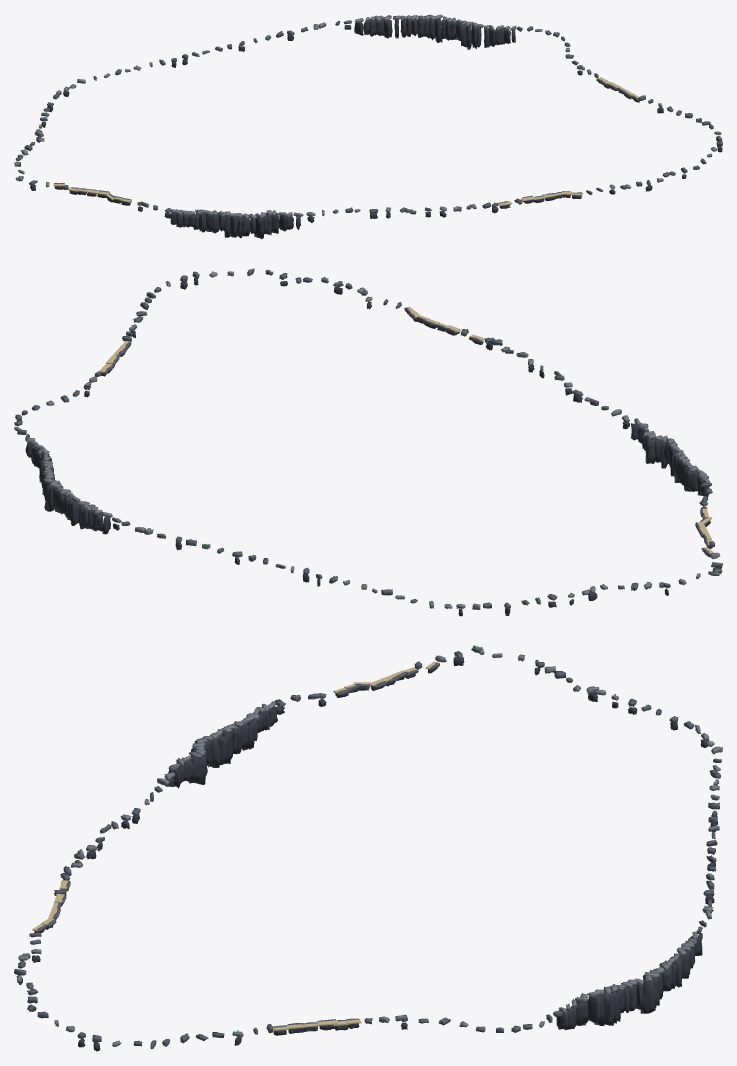
File: tf-coast-p3.glb
3 views of the same model, one above another, from view 1: azimuth 30°, elevation 25°; view 2: azimuth 150°, elevation 25°; view 3: azimuth 270°, elevation 25° (orthographic). The views are drawn at different scales.
Parts seen in each view (by area): view 1: tf-coast-p3; view 2: tf-coast-p3; view 3: tf-coast-p3.
Boxes of the visible parts, box(x1,y1,x2,y2) form: tf-coast-p3: box(14, 14, 722, 239); tf-coast-p3: box(14, 268, 722, 616); tf-coast-p3: box(14, 645, 722, 1051).
Size of the model in its own units: 404 by 17.8 by 303.
